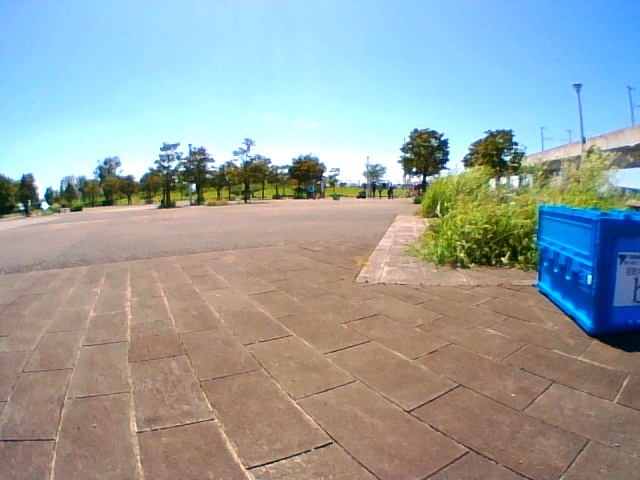blue_box: (541, 206, 640, 333)
tag_b: (619, 254, 640, 304)
